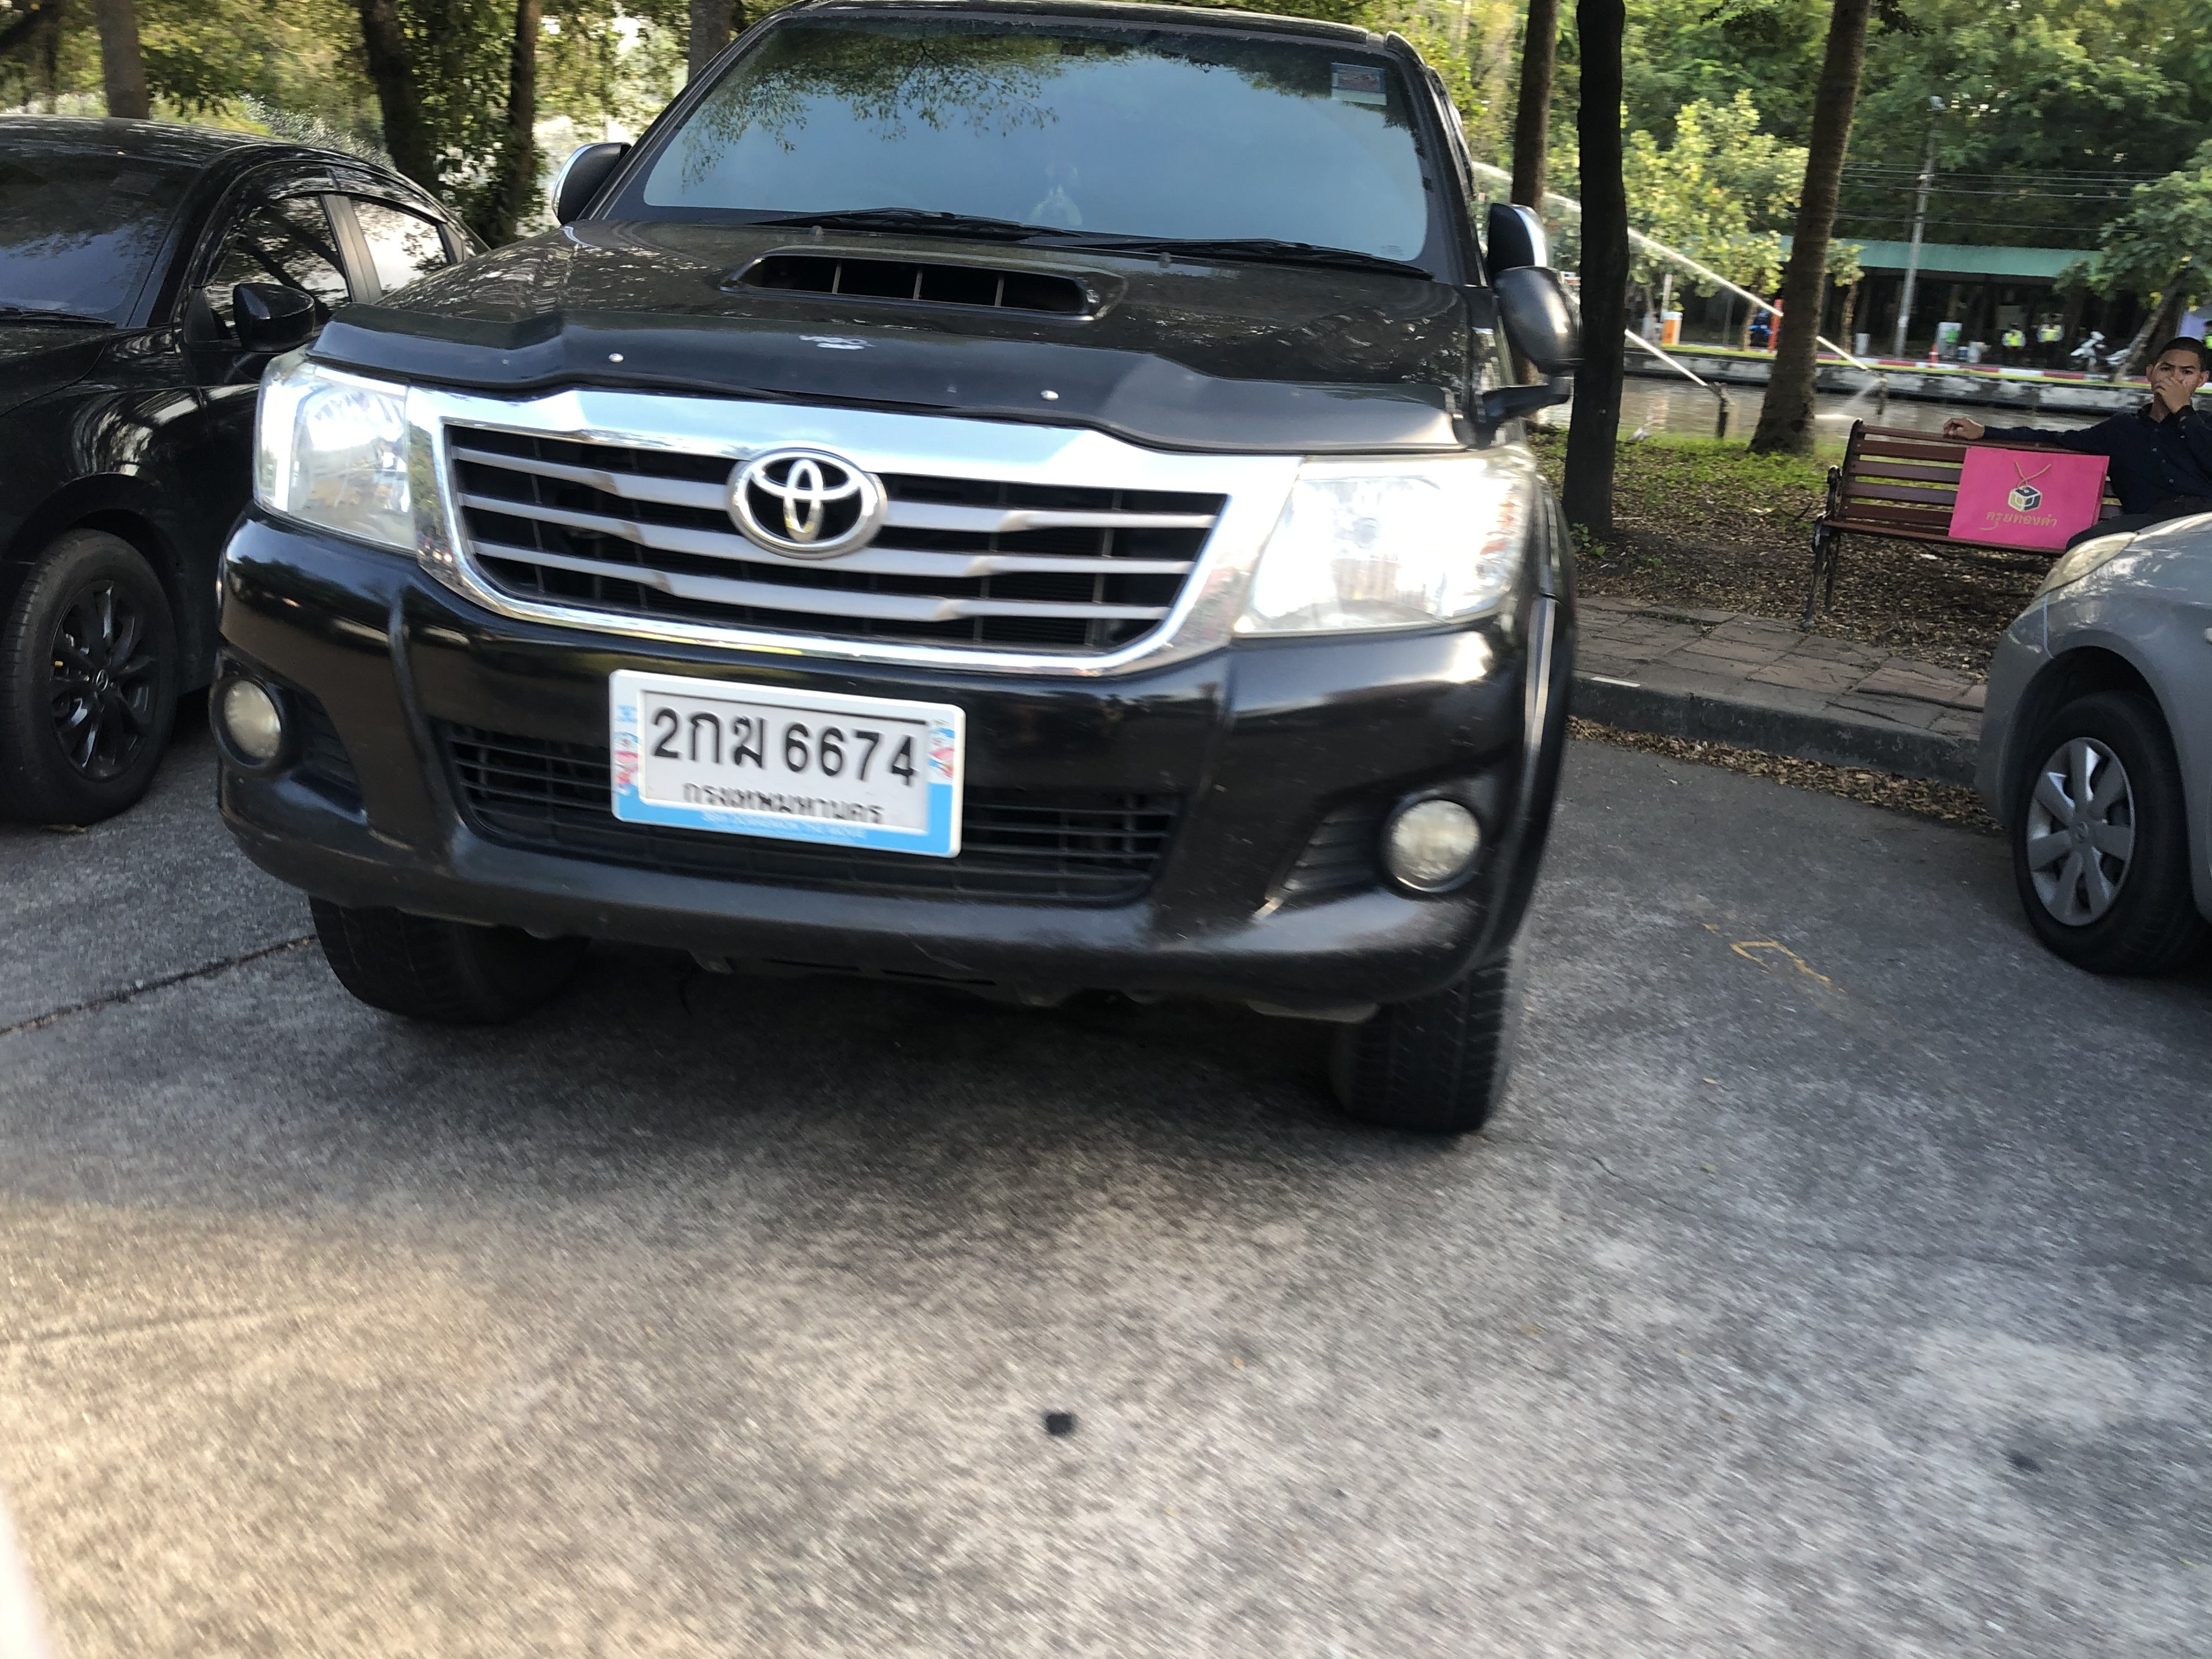in: (643, 692, 932, 830)
out: (603, 666, 970, 863)
